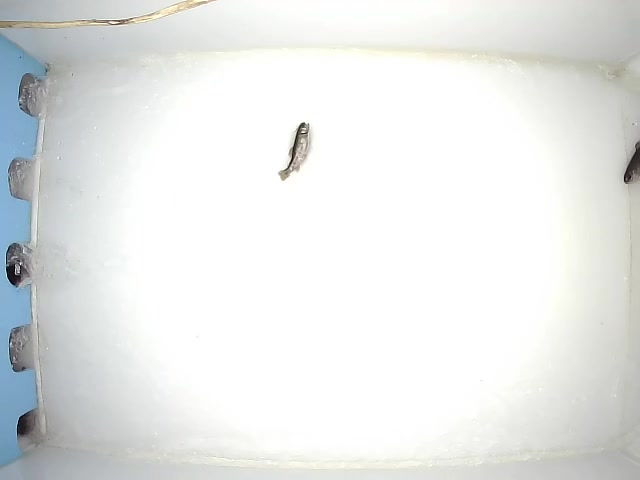fish: (276, 121, 311, 184)
